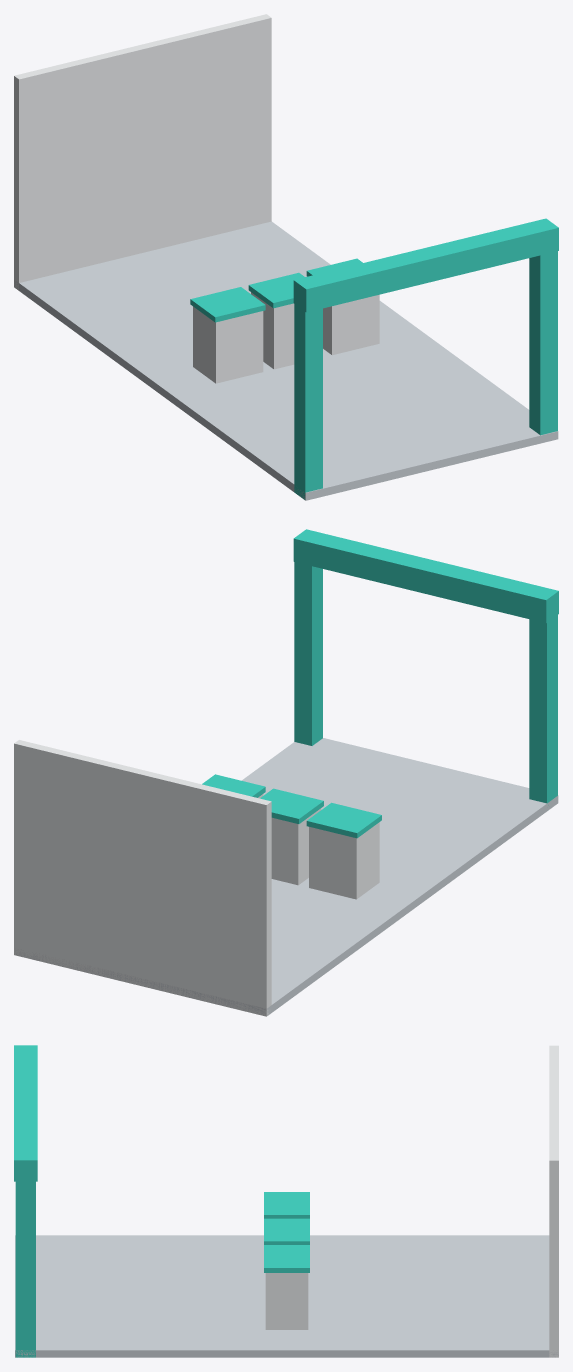
The picture shows the model from 3 angles, top to bottom: view 1: azimuth 30°, elevation 25°; view 2: azimuth 150°, elevation 25°; view 3: azimuth 270°, elevation 25°; orthographic projection. The views are drawn at different scales.
Parts seen in each view (by area): view 1: Exhibition Booth Concept; view 2: Exhibition Booth Concept; view 3: Exhibition Booth Concept.
Boxes of the visible parts, x1,y1,x2,y2 form: Exhibition Booth Concept: [14, 14, 558, 500]; Exhibition Booth Concept: [14, 529, 558, 1016]; Exhibition Booth Concept: [14, 1045, 558, 1357].
Size of the model in its own units: 4 by 3.2 by 8.01.
